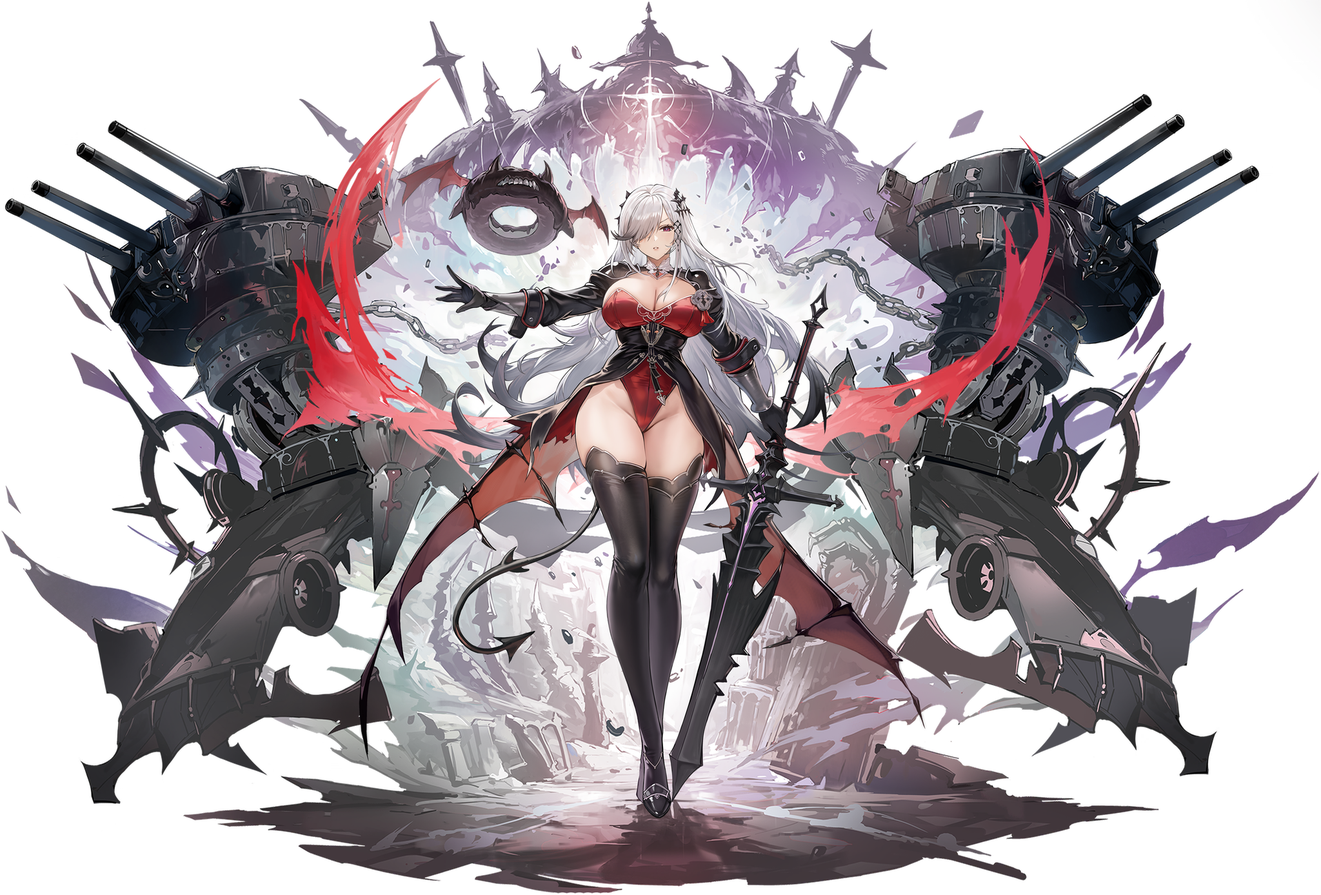person: (432, 156, 798, 858)
